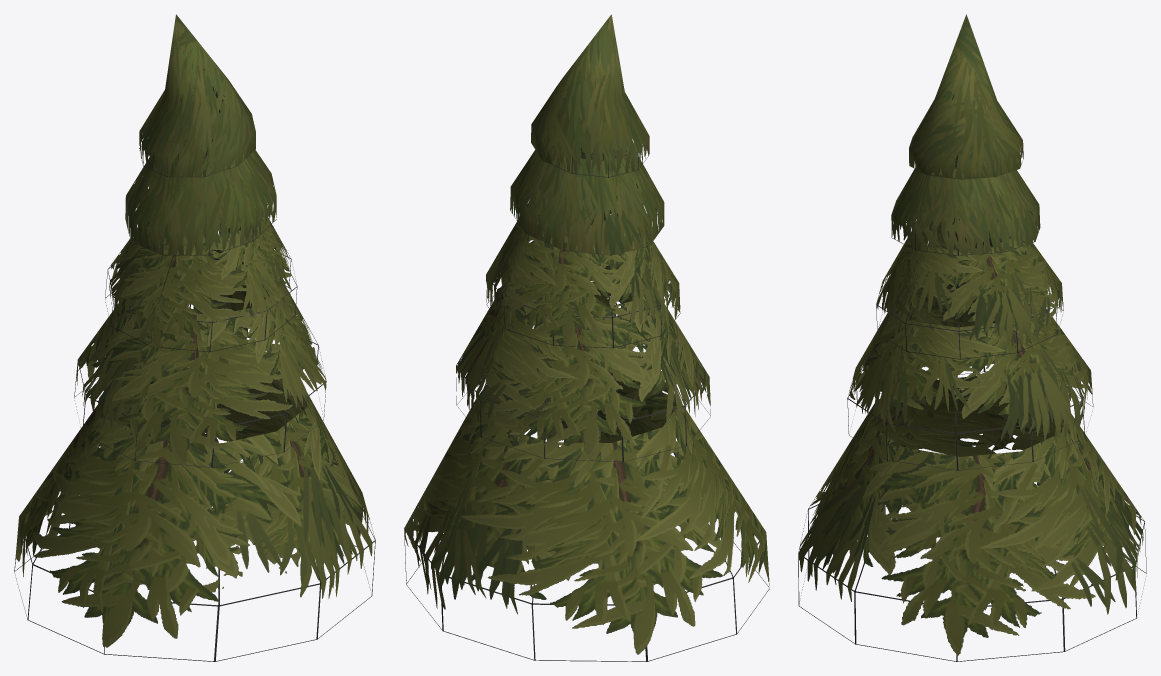
File: pine_tree_03.fbx
3 views of the same model, side by side, from view 1: azimuth 30°, elevation 25°; view 2: azimuth 150°, elevation 25°; view 3: azimuth 270°, elevation 25° (orthographic).
Visible parts, largest first — view 1: PineTree_1.006; view 2: PineTree_1.006; view 3: PineTree_1.006.
Boxes of the visible parts, x1,y1,x2,y2 form: PineTree_1.006: [14, 14, 375, 661]; PineTree_1.006: [404, 14, 769, 661]; PineTree_1.006: [798, 14, 1146, 661].
Bounding box in the file's own units: 913 × 1594 × 883.
